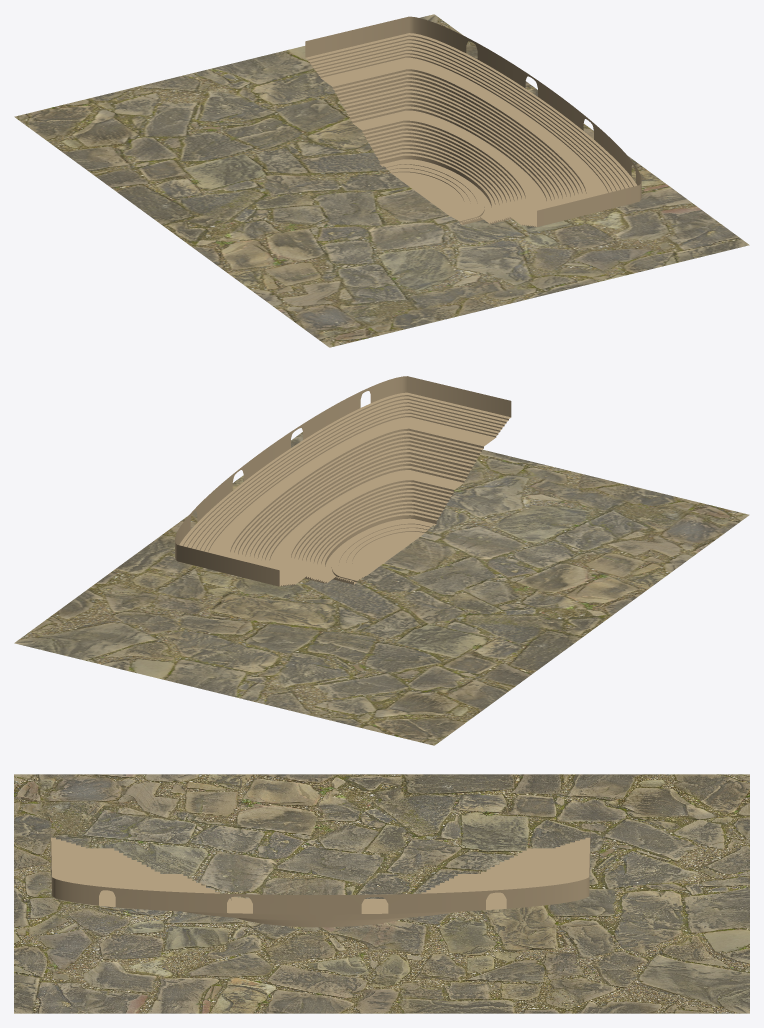
Rendered from amphitheatre.glb.
3 renders of one model, top to bottom at view 1: azimuth 30°, elevation 25°; view 2: azimuth 150°, elevation 25°; view 3: azimuth 270°, elevation 25°, orthographic. The views are drawn at different scales.
Parts seen in each view (by area): view 1: Plane.002, Circle; view 2: Plane.002, Circle; view 3: Plane.002, Circle.
Boxes of the visible parts, x1,y1,x2,y2 form: Plane.002: (14, 14, 749, 347); Circle: (305, 16, 641, 226); Plane.002: (14, 432, 749, 745); Circle: (175, 376, 511, 586); Plane.002: (14, 774, 749, 1013); Circle: (50, 825, 590, 927).
Size of the model in its own units: 400 by 64.6 by 520.
Materials: 2 (2 with a texture image).
